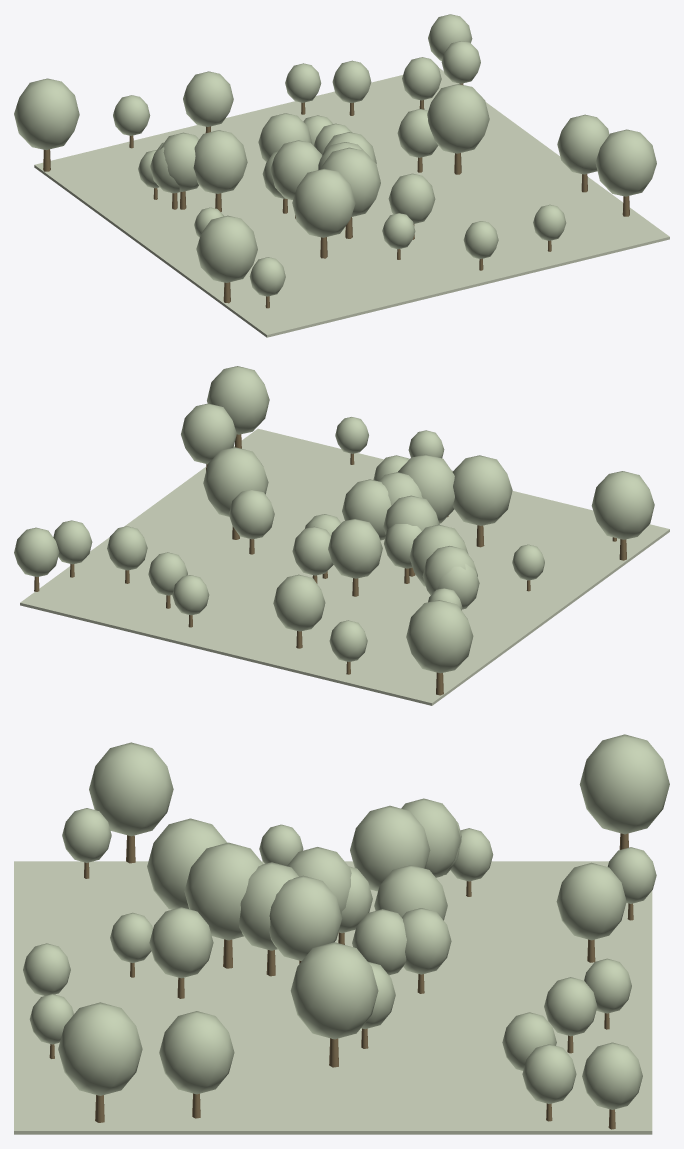
3 renders of one model, top to bottom at view 1: azimuth 30°, elevation 25°; view 2: azimuth 150°, elevation 25°; view 3: azimuth 270°, elevation 25°, orthographic. The views are drawn at different scales.
Parts seen in each view (by area): view 1: terrain, lod-near-0, lod-near-2, lod-near-19, lod-near-30, lod-near-20, lod-near-9, lod-near-23, lod-near-25, lod-near-16, lod-near-28, lod-near-12 (+16 smaller); view 2: terrain, lod-near-0, lod-near-19, lod-near-30, lod-near-20, lod-near-2, lod-near-29, lod-near-23, lod-near-25, lod-near-16, lod-near-6, lod-near-27 (+16 smaller); view 3: terrain, lod-near-0, lod-near-2, lod-near-20, lod-near-30, lod-near-16, lod-near-23, lod-near-6, lod-near-9, lod-near-25, lod-near-19, lod-near-12 (+20 smaller).
Boxes of the visible parts, x1,y1,x2,y2 form: terrain: (34, 68, 669, 337); lod-near-0: (14, 78, 79, 150); lod-near-2: (427, 84, 489, 153); lod-near-19: (292, 168, 355, 237); lod-near-30: (196, 215, 257, 282); lod-near-20: (595, 129, 656, 196); lod-near-9: (193, 130, 247, 193); lod-near-23: (557, 114, 609, 174); lod-near-25: (183, 71, 233, 126); lod-near-16: (321, 147, 380, 216); lod-near-28: (270, 140, 322, 199); lod-near-12: (388, 173, 435, 223); terrain: (20, 428, 669, 705); lod-near-0: (406, 600, 473, 673); lod-near-19: (452, 455, 512, 525); lod-near-30: (591, 471, 654, 539); lod-near-20: (207, 366, 269, 434); lod-near-2: (203, 447, 268, 516); lod-near-29: (328, 519, 382, 578); lod-near-23: (181, 403, 236, 464); lod-near-25: (273, 574, 325, 631); lod-near-16: (398, 454, 454, 523); lod-near-6: (342, 479, 391, 540); lod-near-27: (229, 489, 274, 539); terrain: (14, 861, 652, 1134); lod-near-0: (579, 734, 669, 834); lod-near-2: (290, 942, 378, 1039); lod-near-20: (58, 1002, 142, 1095); lod-near-30: (89, 742, 173, 836); lod-near-16: (184, 842, 263, 940); lod-near-23: (159, 1011, 234, 1094); lod-near-6: (269, 875, 342, 961); lod-near-9: (350, 805, 430, 891); lod-near-25: (556, 862, 626, 940); lod-near-19: (147, 818, 227, 909); lod-near-12: (149, 907, 213, 978).
Bounding box in the file's own units: 35.45 × 7.14 × 32.88.
